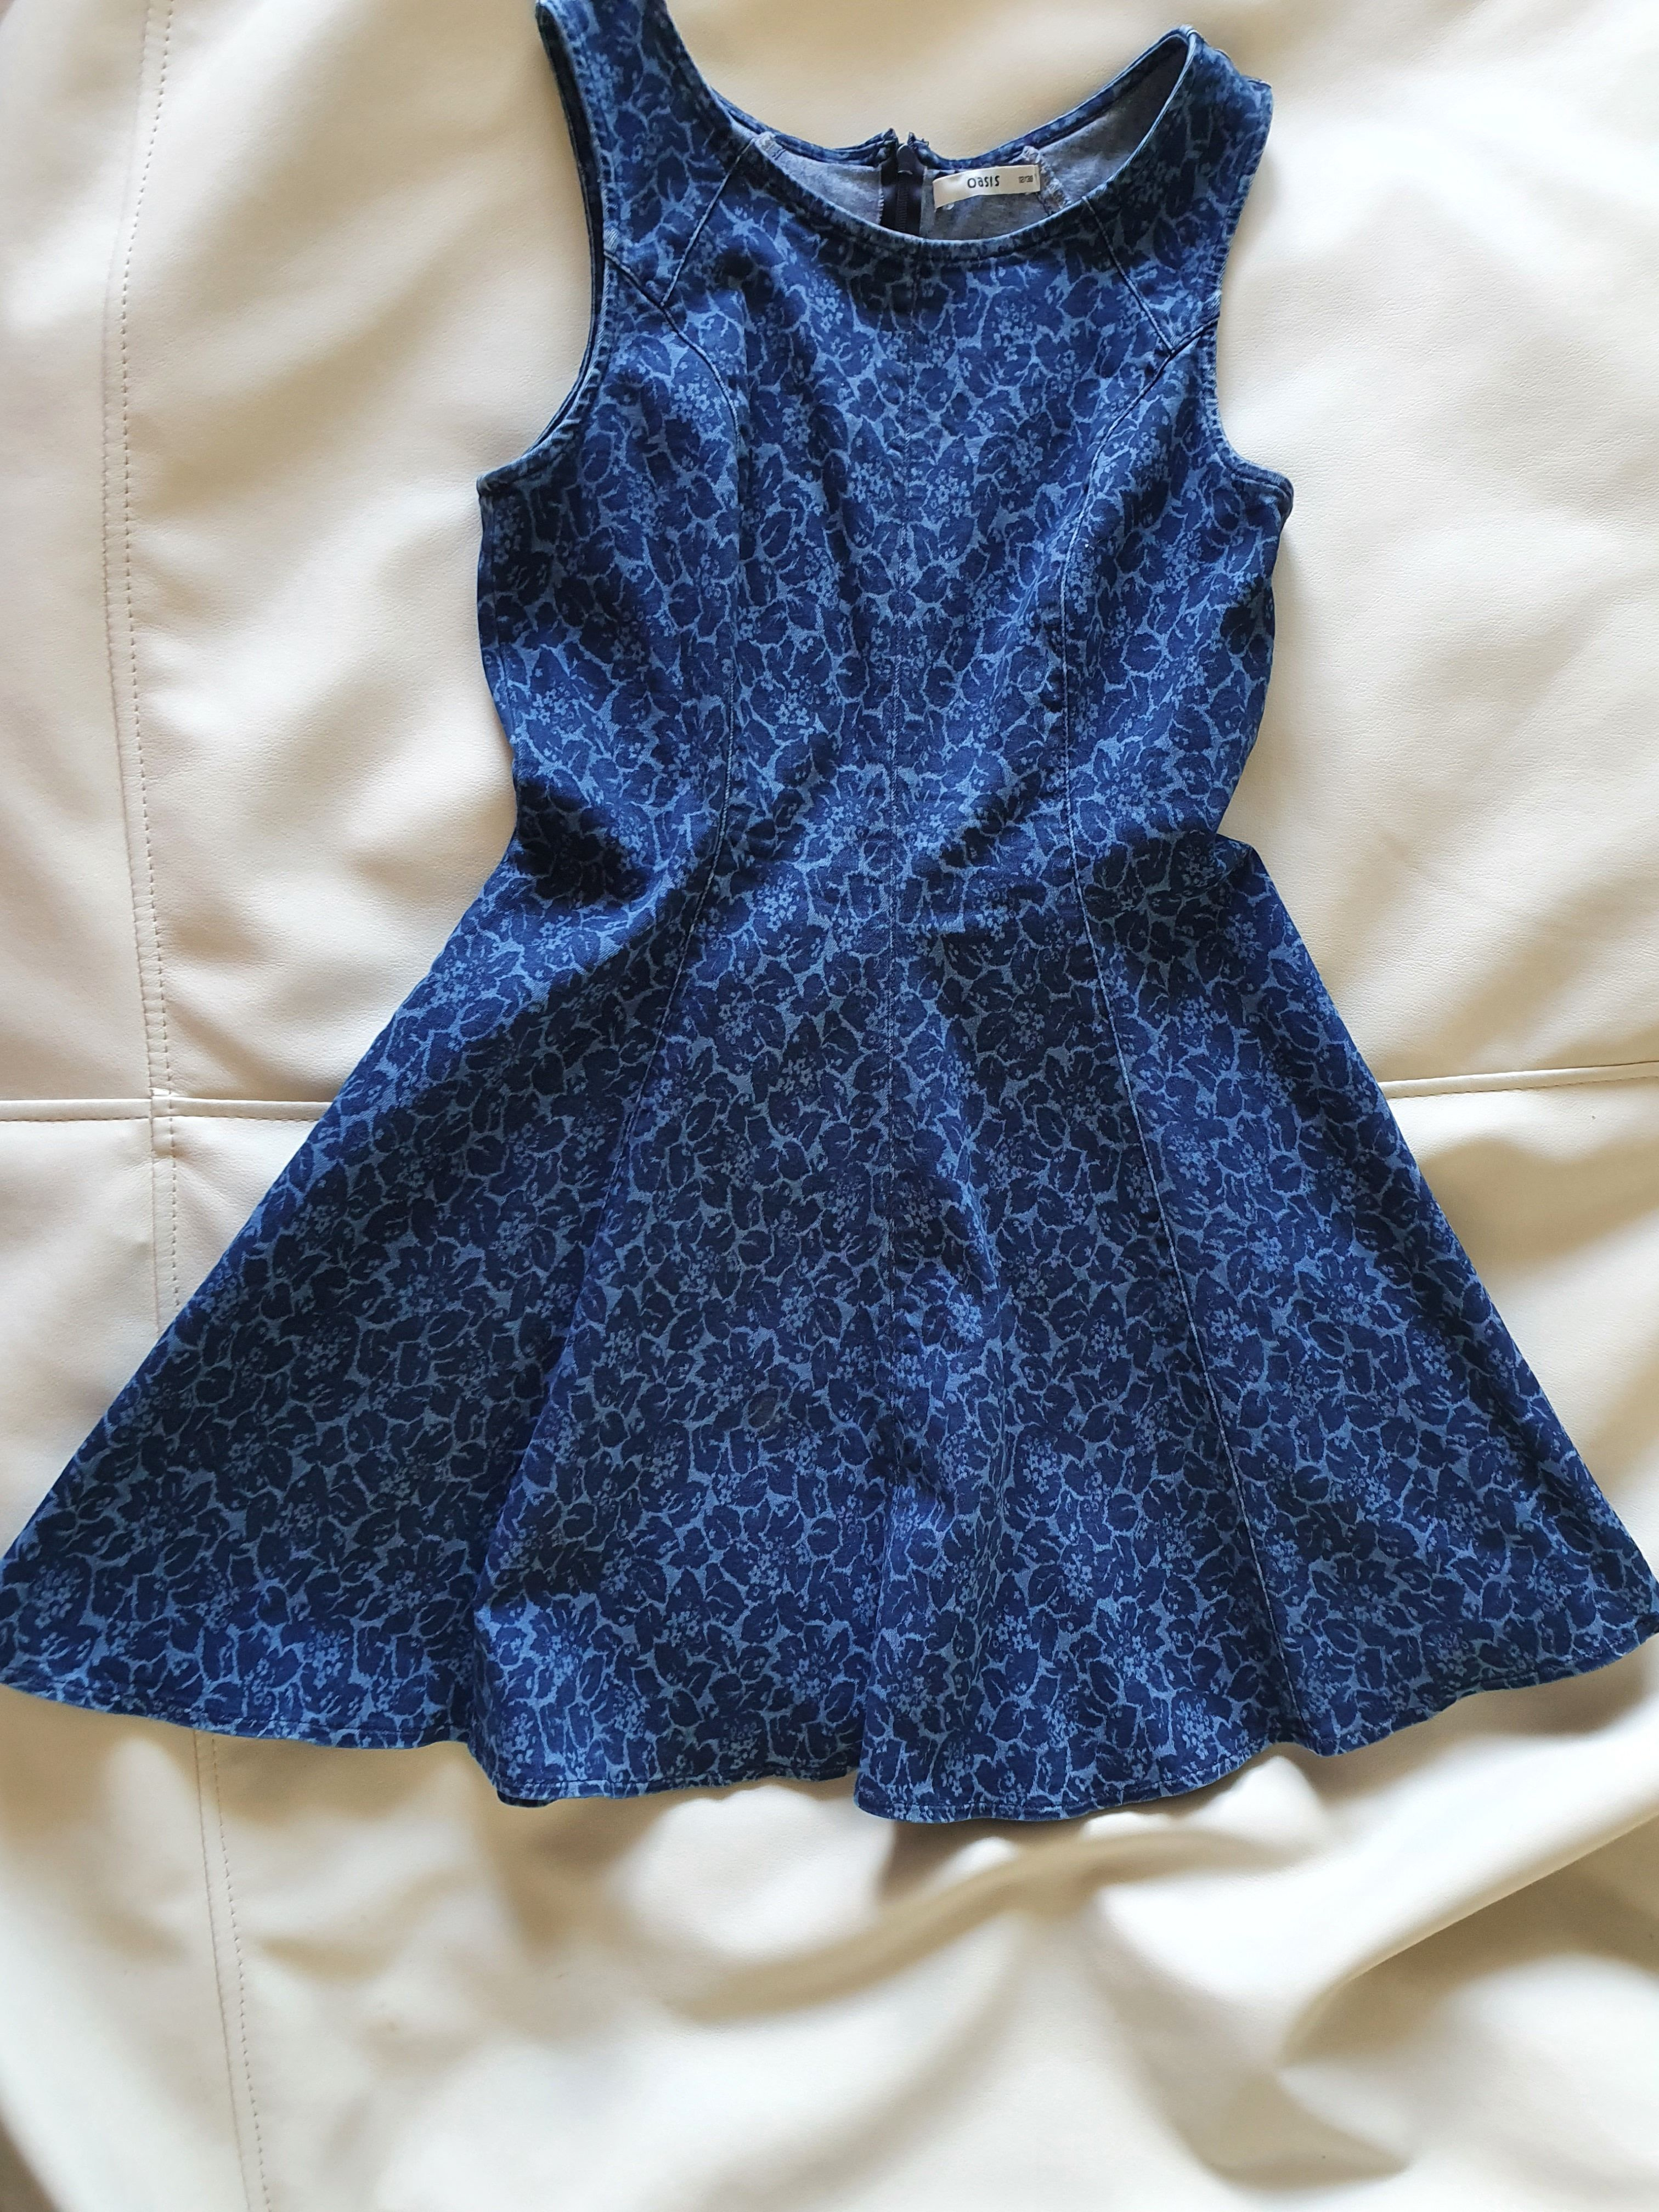clothes: (3, 0, 1636, 1831)
